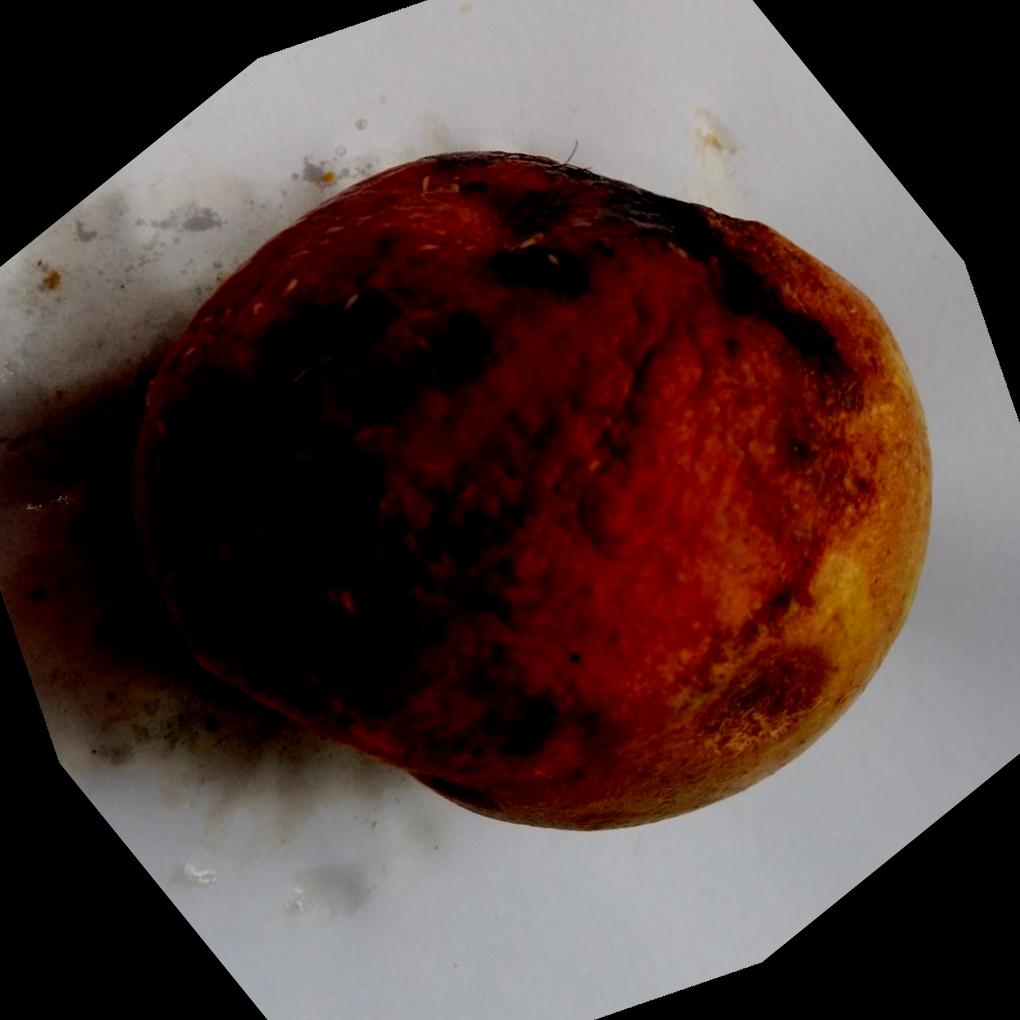FreshOrange: (121, 148, 933, 835)
